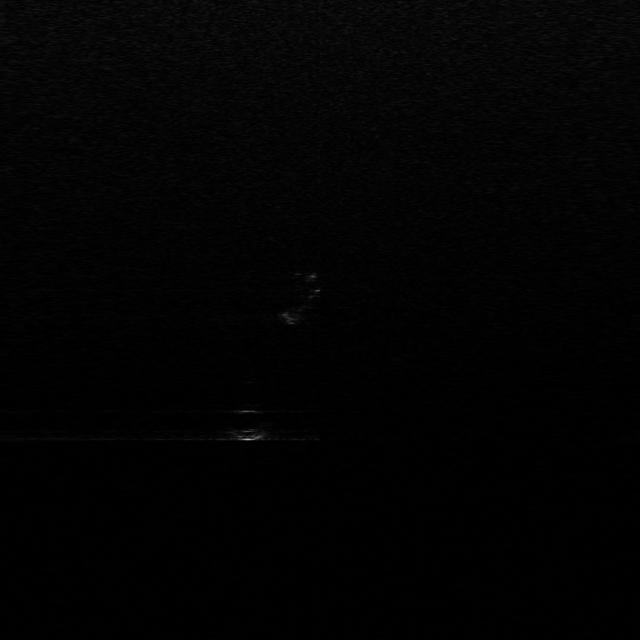ball: (228, 406, 272, 440)
tyre: (284, 271, 322, 322)
